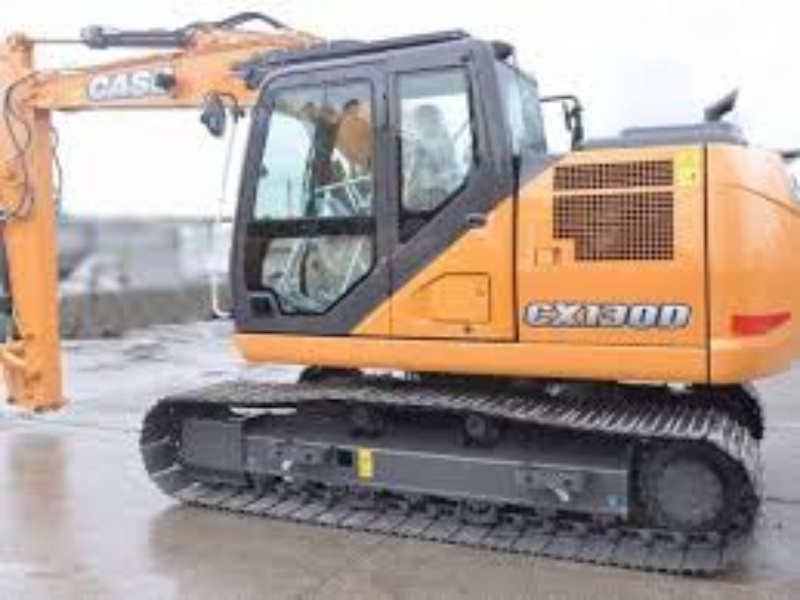wajueji: (144, 1, 785, 600)
